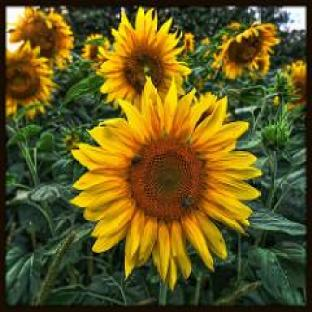sunflower: (66, 82, 261, 280)
